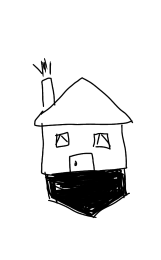door: (61, 150, 102, 174)
open_window: (91, 129, 115, 154), (51, 129, 72, 151)
roof: (25, 75, 137, 131)
shadow: (38, 165, 138, 221)
smoking_chimney: (26, 51, 64, 113)
wall: (38, 120, 129, 176)
